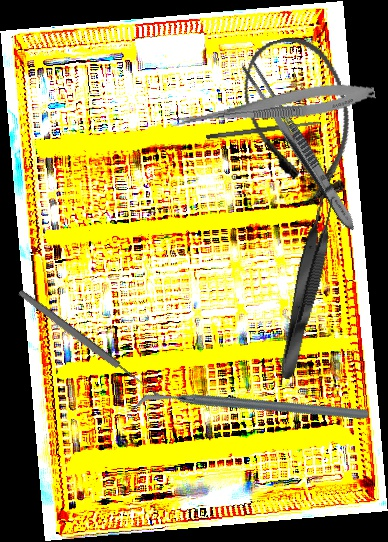Cannula: (232, 27, 369, 212)
Chopper: (130, 310, 372, 508)
Dressing Forceps: (237, 56, 362, 236)
Micro Scissor: (168, 76, 377, 141)
Spatula Surgical: (206, 120, 320, 140)
Surgical Spoon: (15, 287, 165, 403)
Tissue Forceps: (272, 193, 341, 382)
